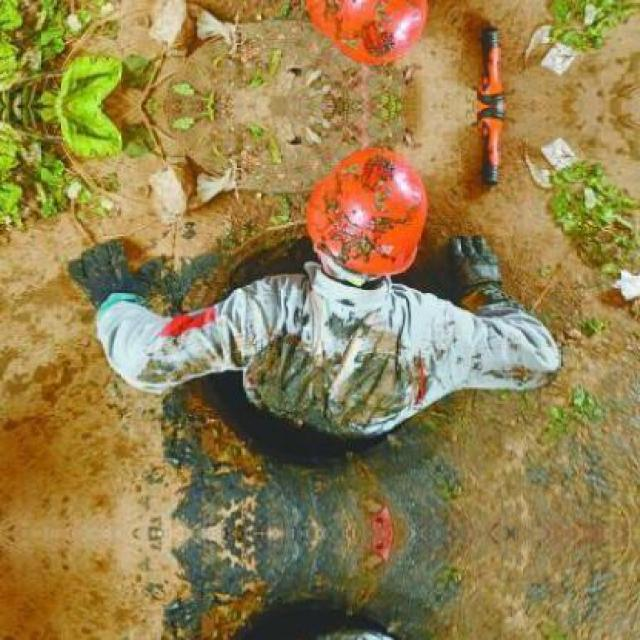helmet: (304, 143, 441, 284), (303, 0, 442, 71)
